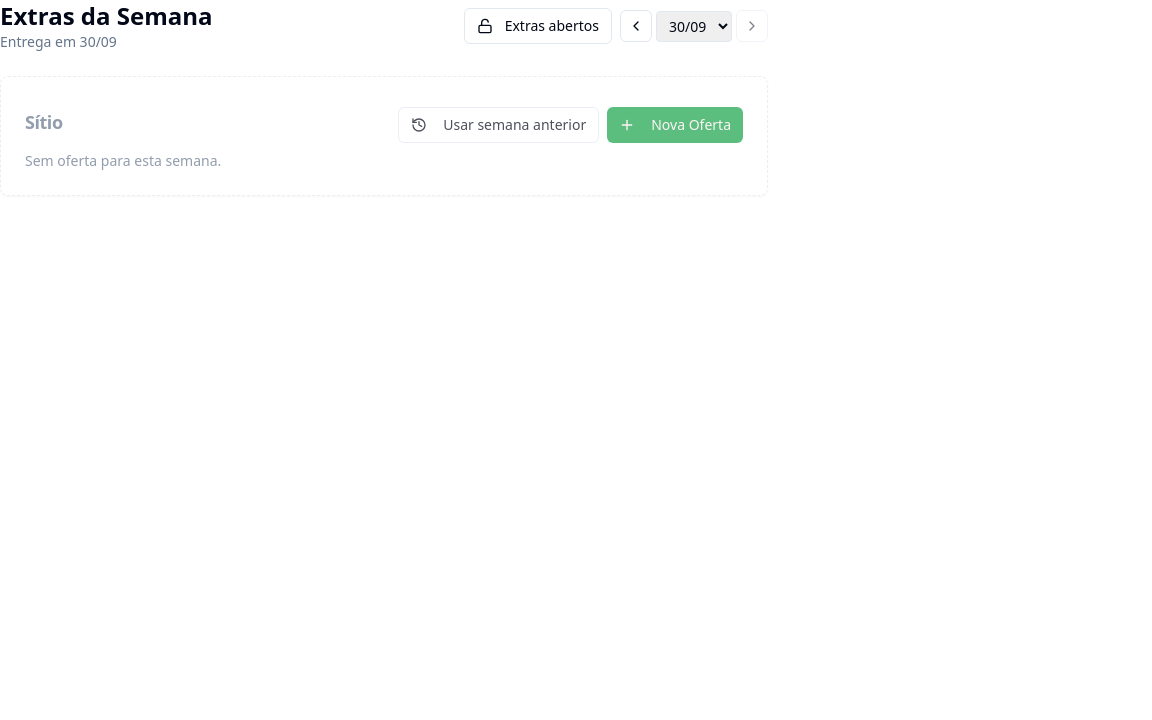
Scenario: OfertasPage — montagem da oferta › corrigir o nome reconfere o catálogo no blur e mostra o vínculo encontrado
Click the button "Nova Oferta" at (675, 125), box [607,107,743,143]
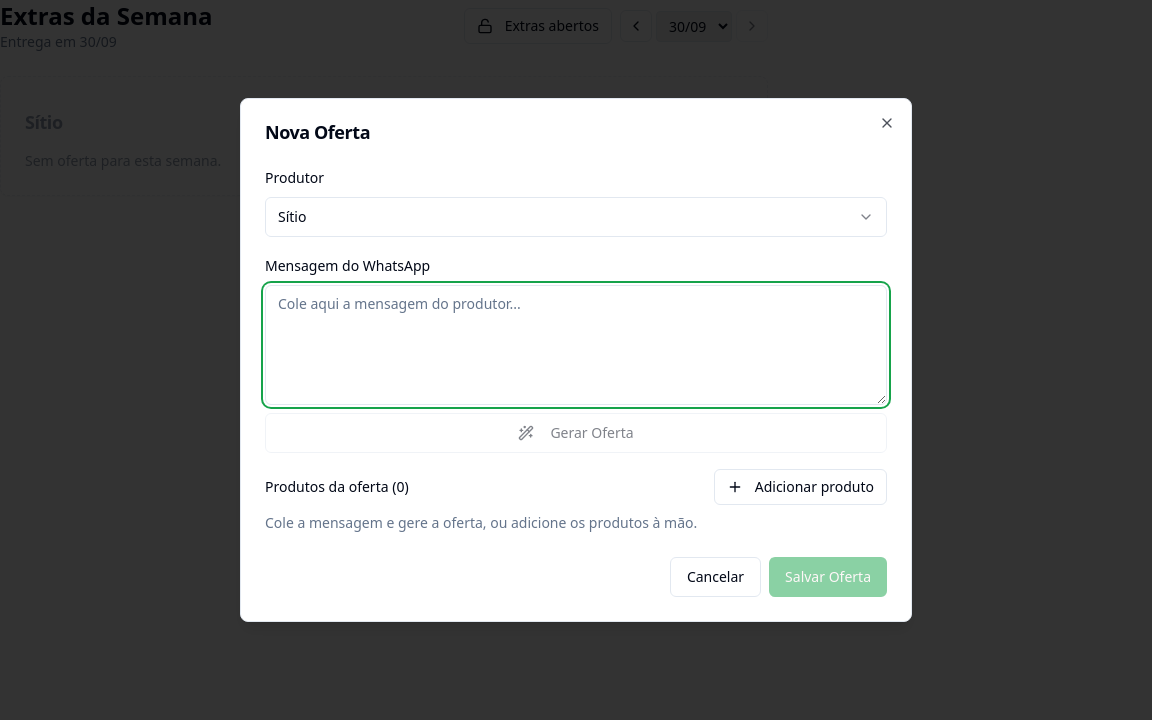
Type "Macaxeira Natural kg R$4,00" into the text box with placeholder "Cole aqui a mensagem do produtor..." at (576, 345), box [265,285,887,405]
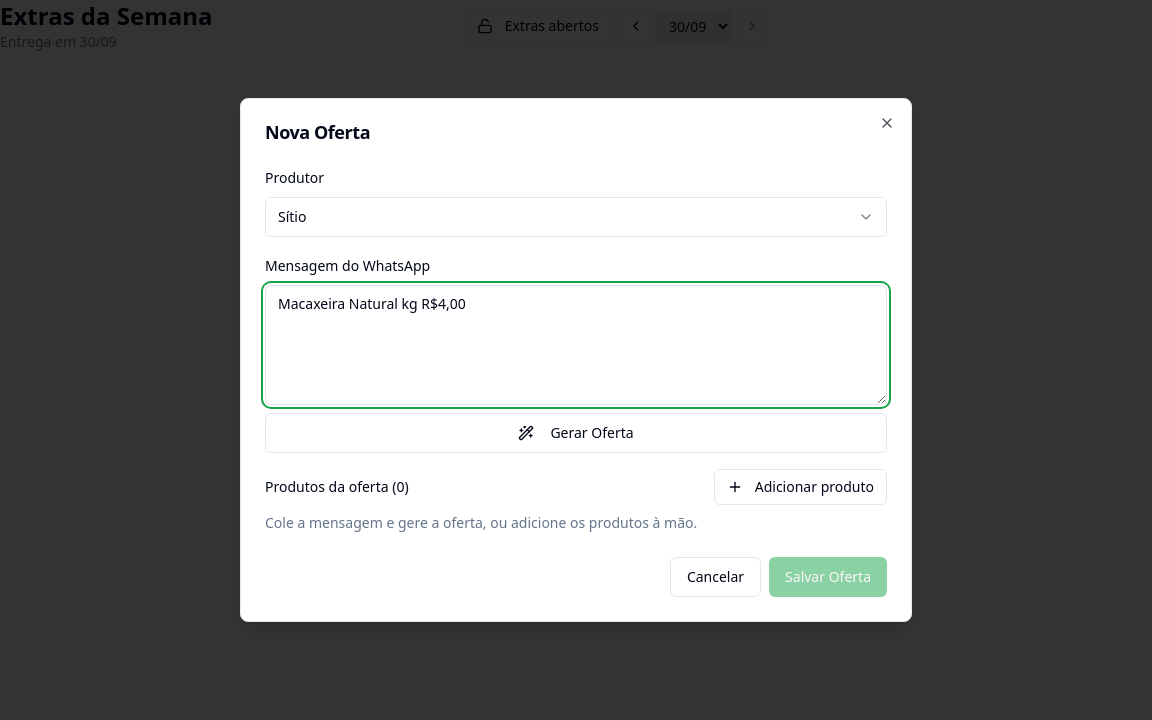
Click the button "Gerar Oferta" at (576, 433), box [265,413,887,453]
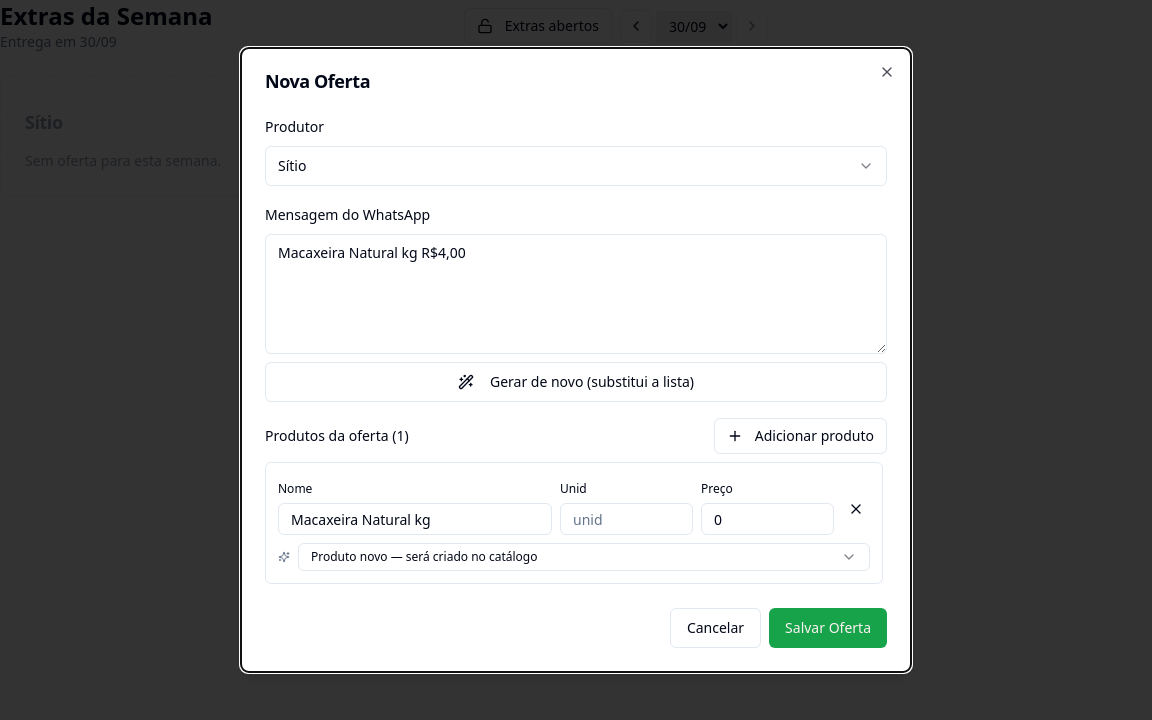
Result: the text "Produto novo — será criado no catálogo" is shown at [311,549,538,565]
Clear the field showing "Macaxeira Natural kg" at (415, 519), box [278,503,552,535]
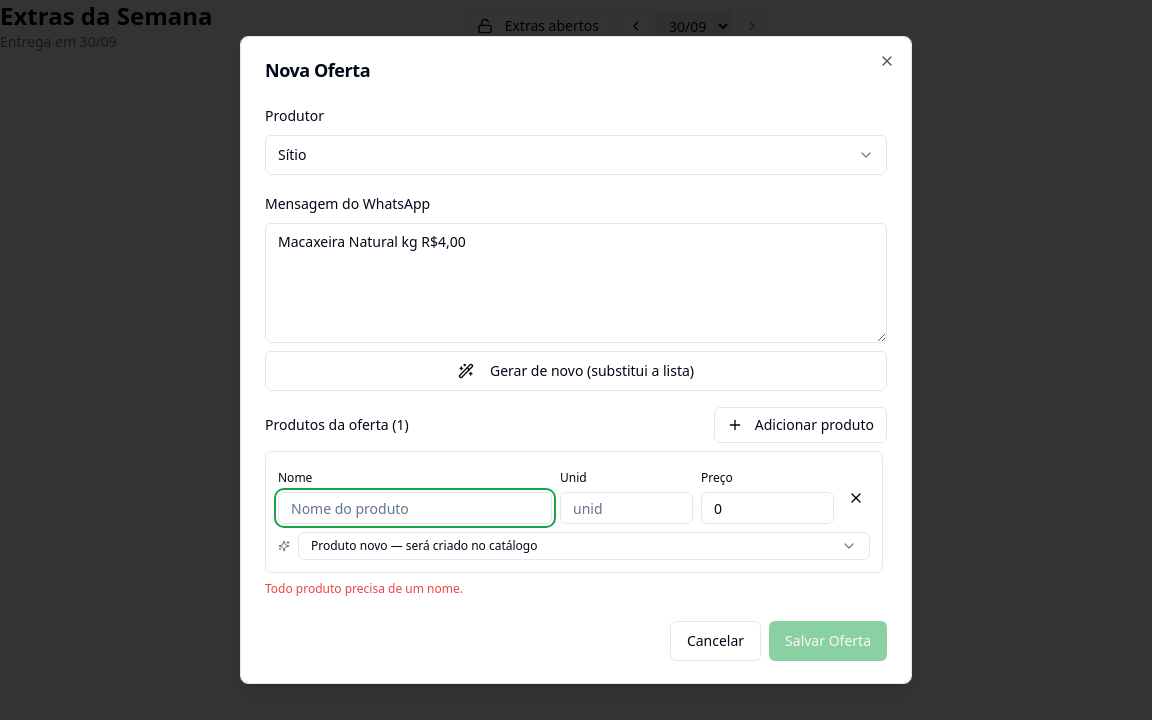
Type "Macaxeira" into the field showing "Macaxeira Natural kg" at (415, 508), box [278,492,552,524]
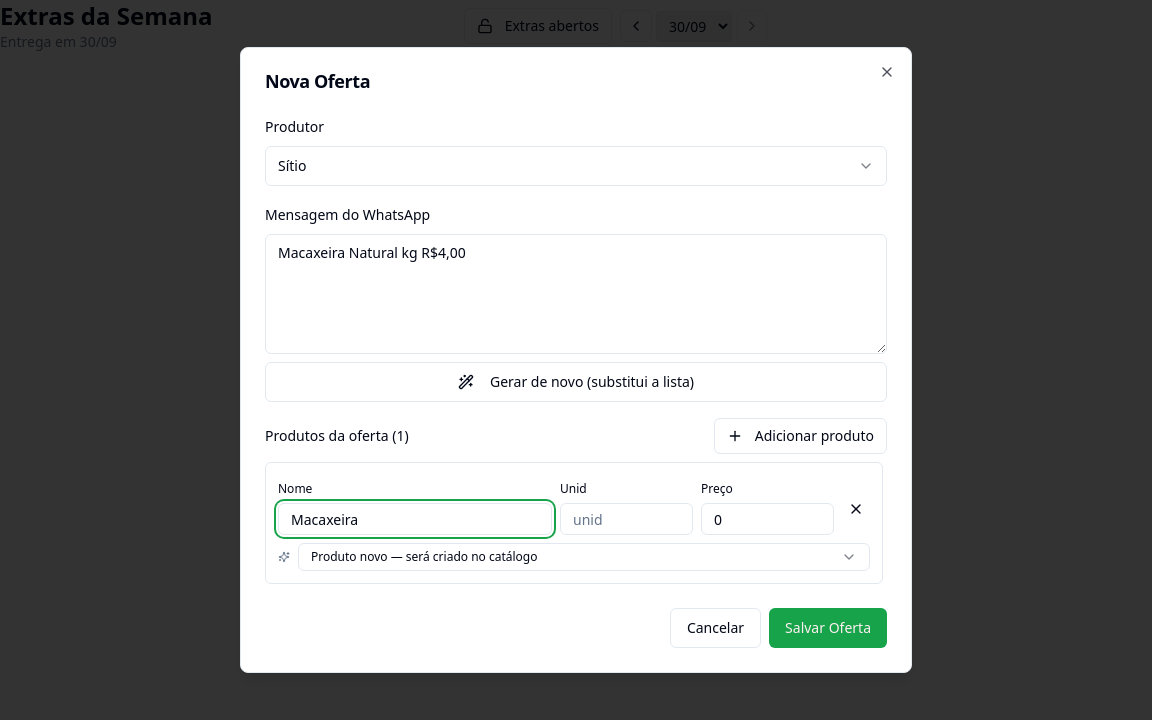
Result: the text "Produto novo — será criado no catálogo" is shown at [311,549,538,565]
Press Tab
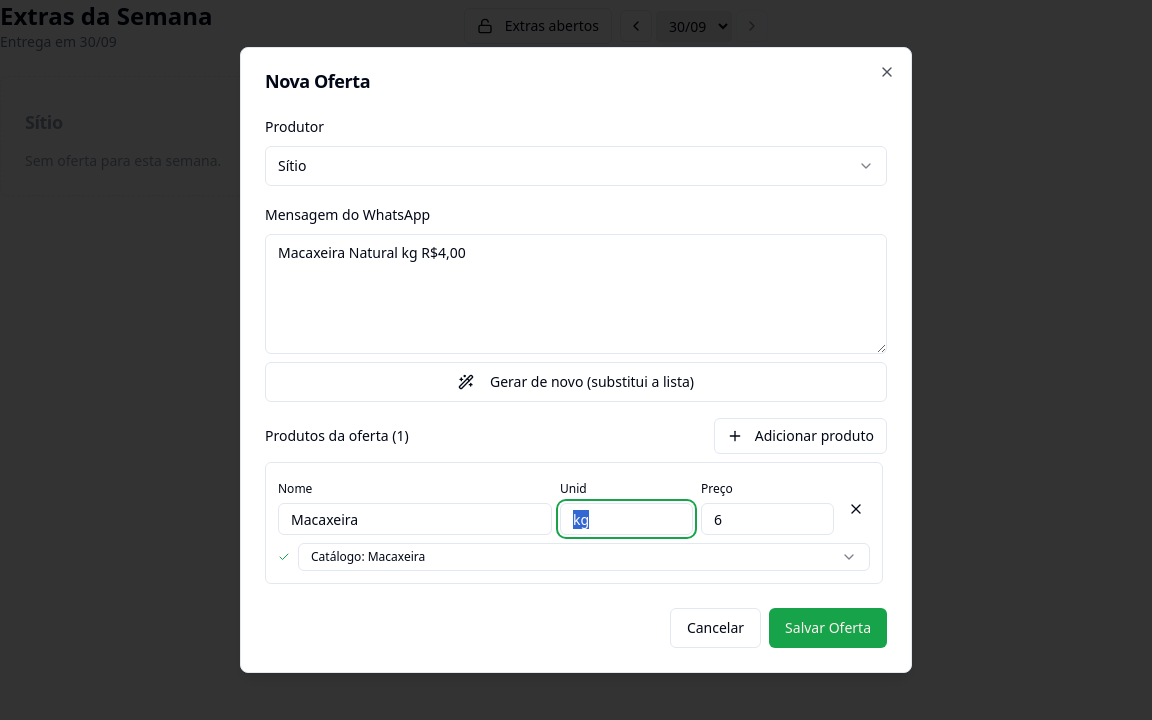
Result: the text "Catálogo: Macaxeira" is shown at [311,549,425,565]
Result: the dropdown "Produto novo" is gone
